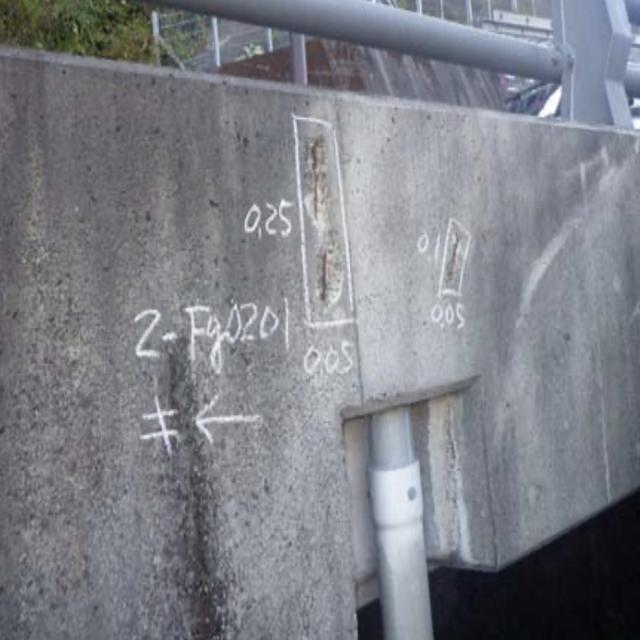spalling: (290, 121, 360, 326), (432, 218, 478, 298)
